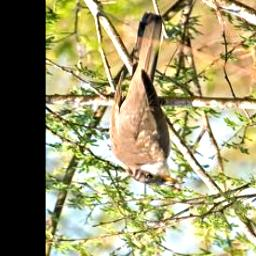Cuckoo: (108, 14, 184, 186)
